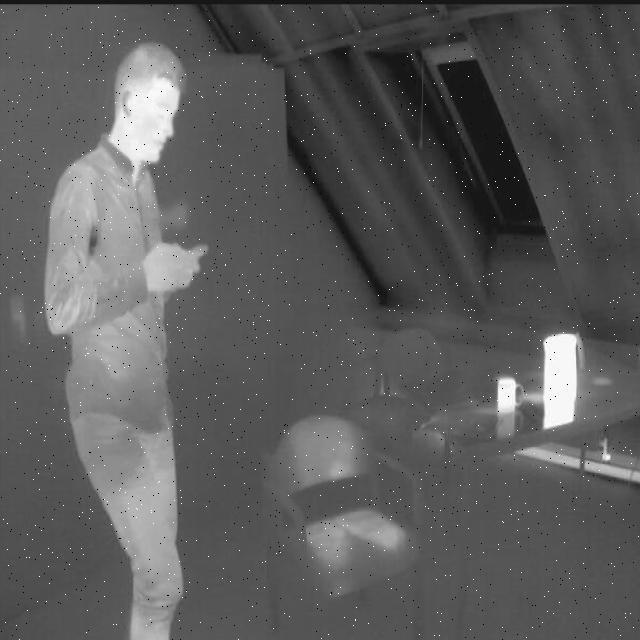person: (40, 45, 209, 640)
